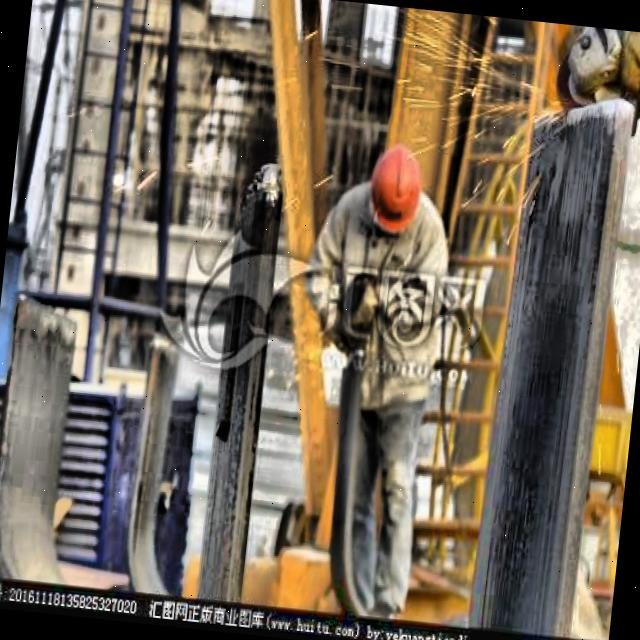helmet: (362, 141, 428, 243)
